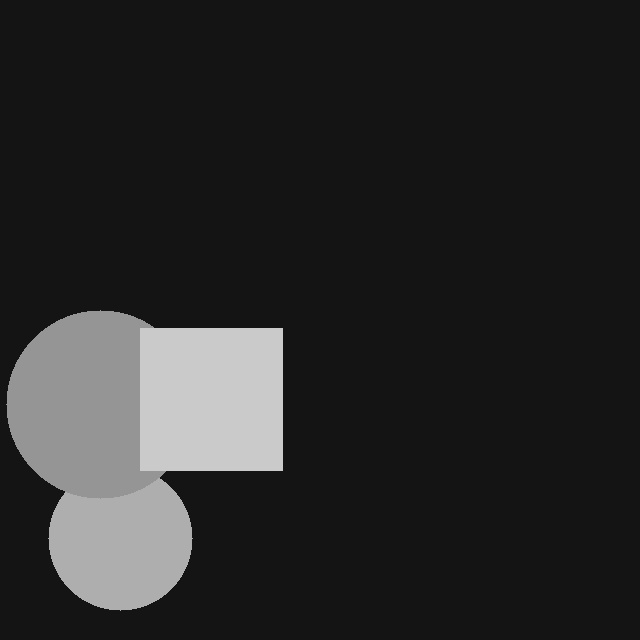circle: (6, 310, 194, 498), (48, 466, 192, 610)
square: (140, 328, 282, 470)
